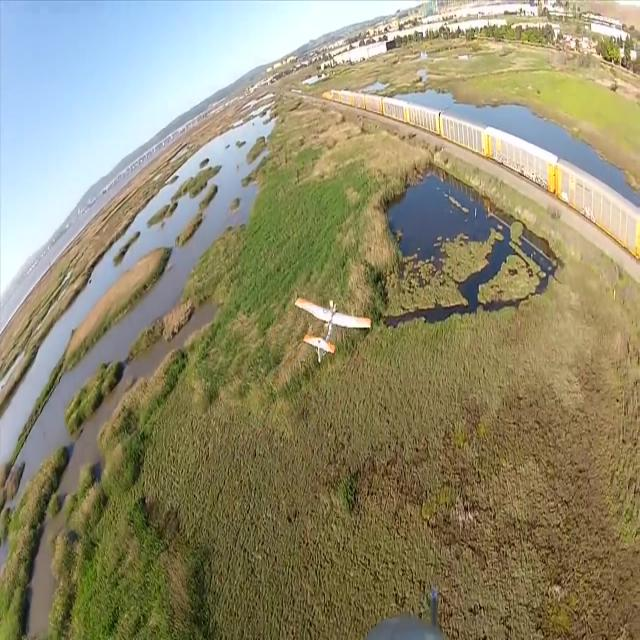iha: (326, 323, 340, 325)
